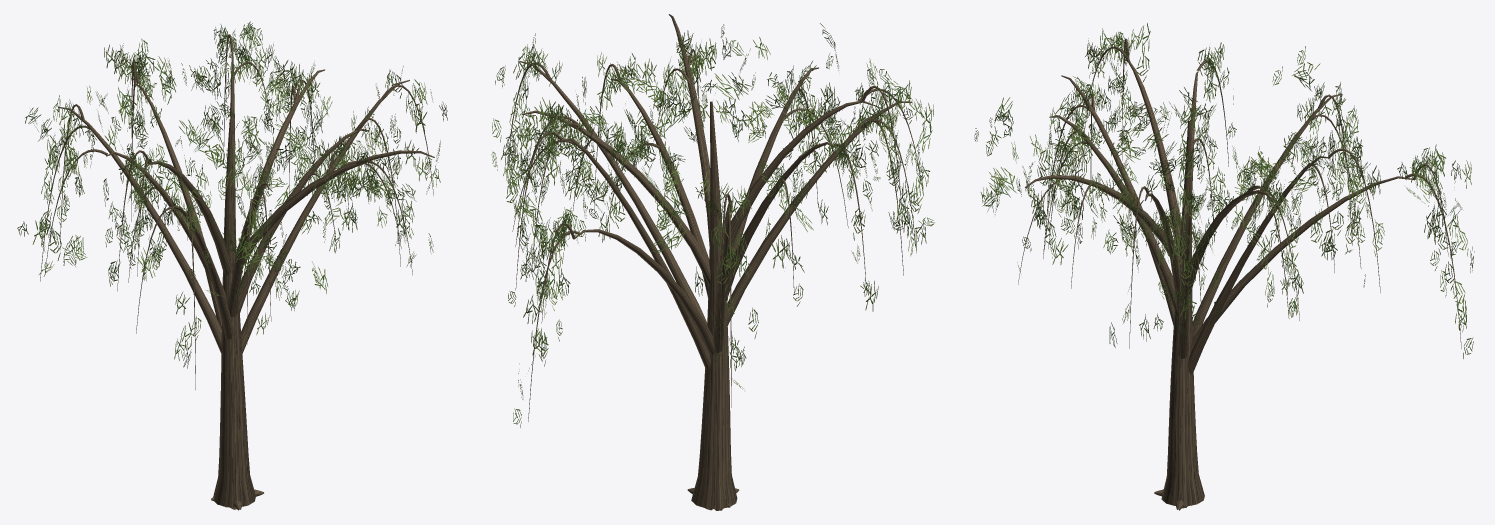
Rendered from weeping_willow_LOD2.glb.
The picture shows the model from 3 angles, left to right: view 1: azimuth 30°, elevation 25°; view 2: azimuth 150°, elevation 25°; view 3: azimuth 270°, elevation 25°; orthographic projection. The views are drawn at different scales.
Visible parts, largest first — view 1: weeping_willow_foliage, weeping_willow_wood; view 2: weeping_willow_foliage, weeping_willow_wood; view 3: weeping_willow_foliage, weeping_willow_wood.
Boxes of the visible parts, x1,y1,x2,y2 form: weeping_willow_foliage: (17, 21, 447, 368); weeping_willow_wood: (40, 34, 434, 510); weeping_willow_foliage: (491, 23, 934, 427); weeping_willow_wood: (507, 14, 921, 510); weeping_willow_foliage: (974, 23, 1474, 358); weeping_willow_wood: (1018, 38, 1461, 510).
Bounding box in the file's own units: 13.44 × 13.53 × 14.77.
2 materials, 2 textured.
